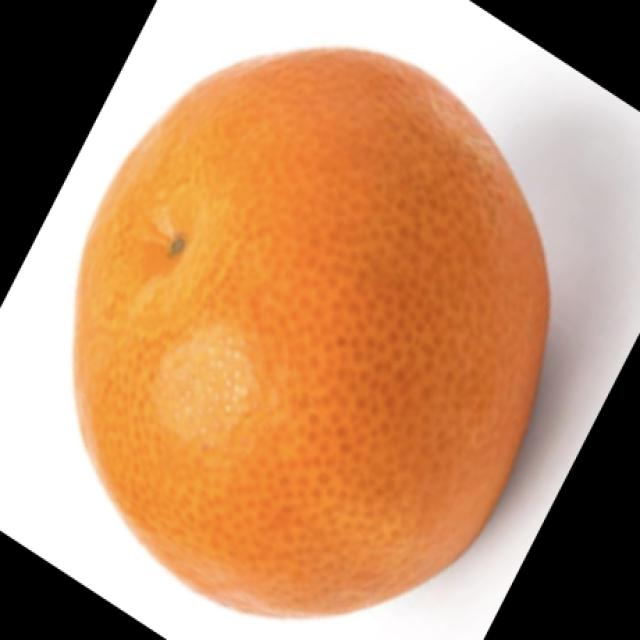matang: (73, 30, 553, 623)
